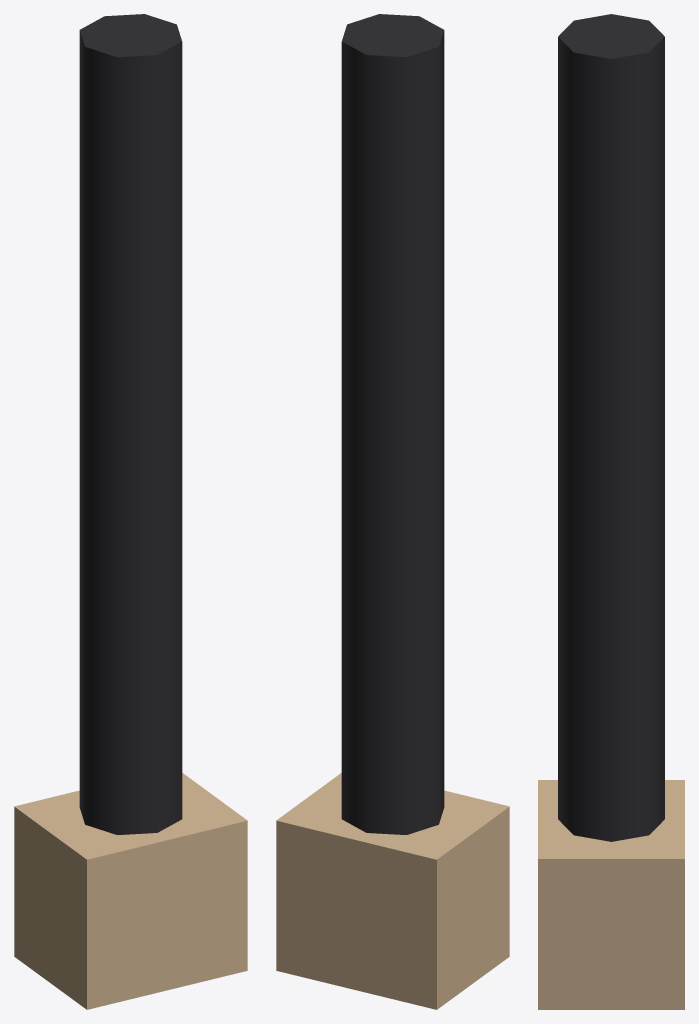
The model's file is CleaningBrush.glb.
The picture shows the model from 3 angles, left to right: view 1: azimuth 30°, elevation 25°; view 2: azimuth 150°, elevation 25°; view 3: azimuth 270°, elevation 25°; orthographic projection.
Parts seen in each view (by area): view 1: CleaningBrush; view 2: CleaningBrush; view 3: CleaningBrush.
Part boxes in pixels (x1=…): CleaningBrush: x1=14, y1=14, x2=247, y2=1009; CleaningBrush: x1=276, y1=14, x2=509, y2=1009; CleaningBrush: x1=538, y1=14, x2=684, y2=1009.
Size of the model in its own units: 0.028 by 0.1545 by 0.022.
